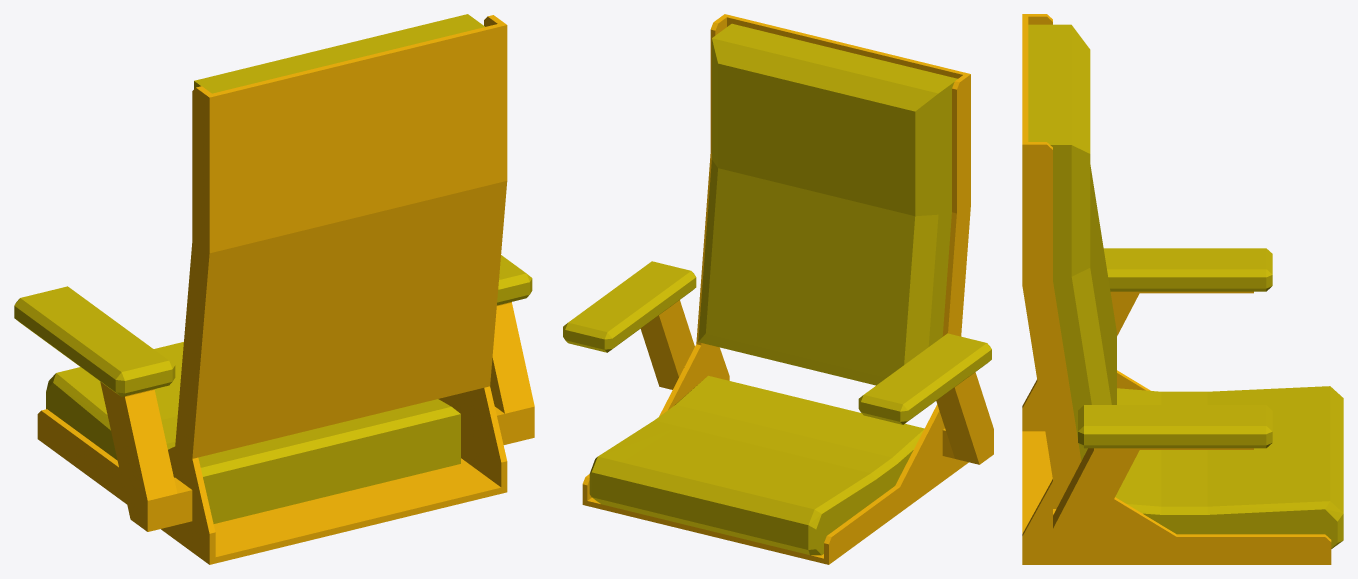
Rendered from seat_car_passenger.dae.
3 views of the same model, side by side, from view 1: azimuth 30°, elevation 25°; view 2: azimuth 150°, elevation 25°; view 3: azimuth 270°, elevation 25° (orthographic). The views are drawn at different scales.
Parts seen in each view (by area): view 1: Cube; view 2: Cube; view 3: Cube.
Part boxes in pixels (x1,y1,x2,y2): Cube: (14,14,534,564); Cube: (563,14,993,564); Cube: (1022,14,1343,564).
Bounding box in the file's own units: 0.7 × 0.52 × 0.75.
